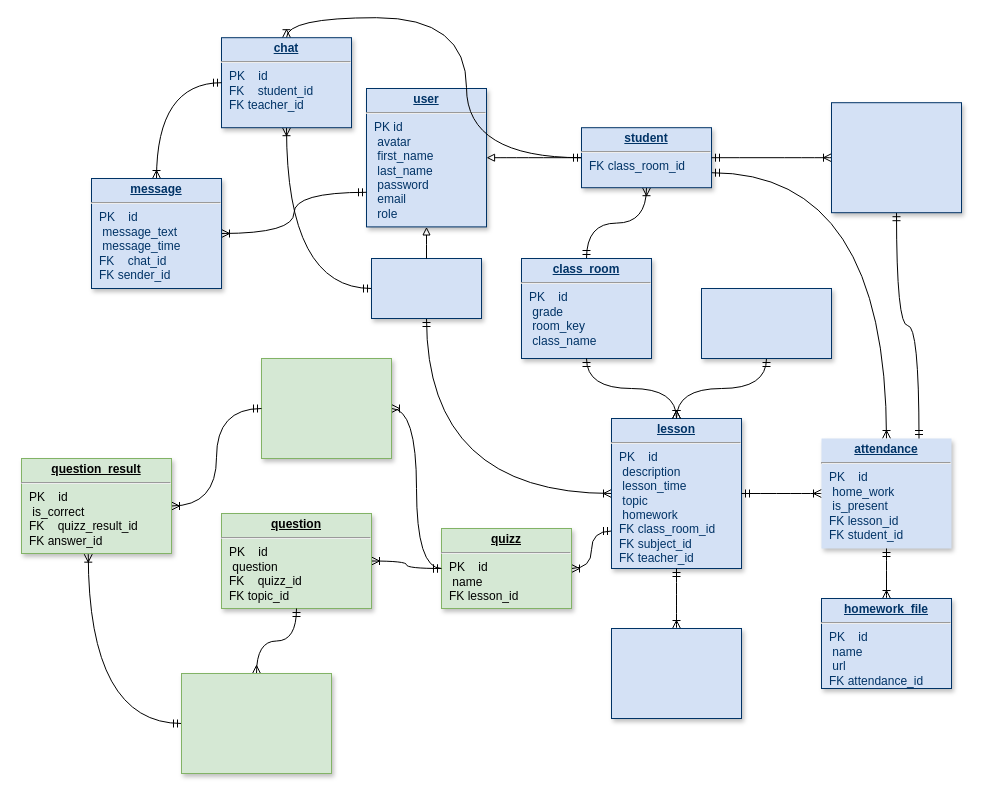
This 985x798 diagram has some shape labels left out. Here are the shapes that lost their labels. From the top down, the centre of each, then its label:
point (897, 159): mark PK id comment level FK attendance_id FK student_id
point (427, 290): teacher lesson_link
point (767, 325): subject PK id subject_name
point (327, 410): quizz_result PK id result FK quizz_id FK attendance_id
point (677, 675): lesson_file PK id name url FK lesson_id
point (257, 724): answer PK id answer is_correct FK question_id
